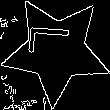L_E: (30, 33, 82, 68)
